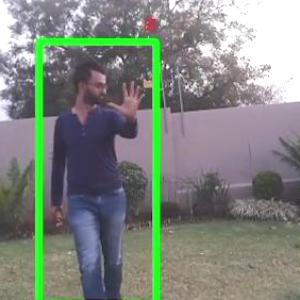follow_hand: (106, 74, 149, 124)
